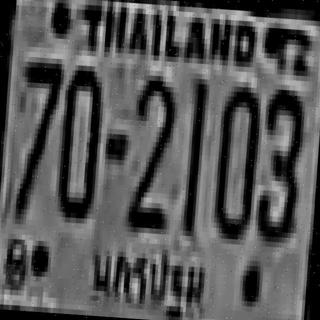N00: (54, 59, 103, 219), (210, 80, 259, 235)
N01: (180, 78, 205, 231)
N02: (126, 72, 176, 226)
N03: (254, 83, 303, 238)
N07: (12, 56, 62, 216)
P28: (84, 240, 212, 320)
